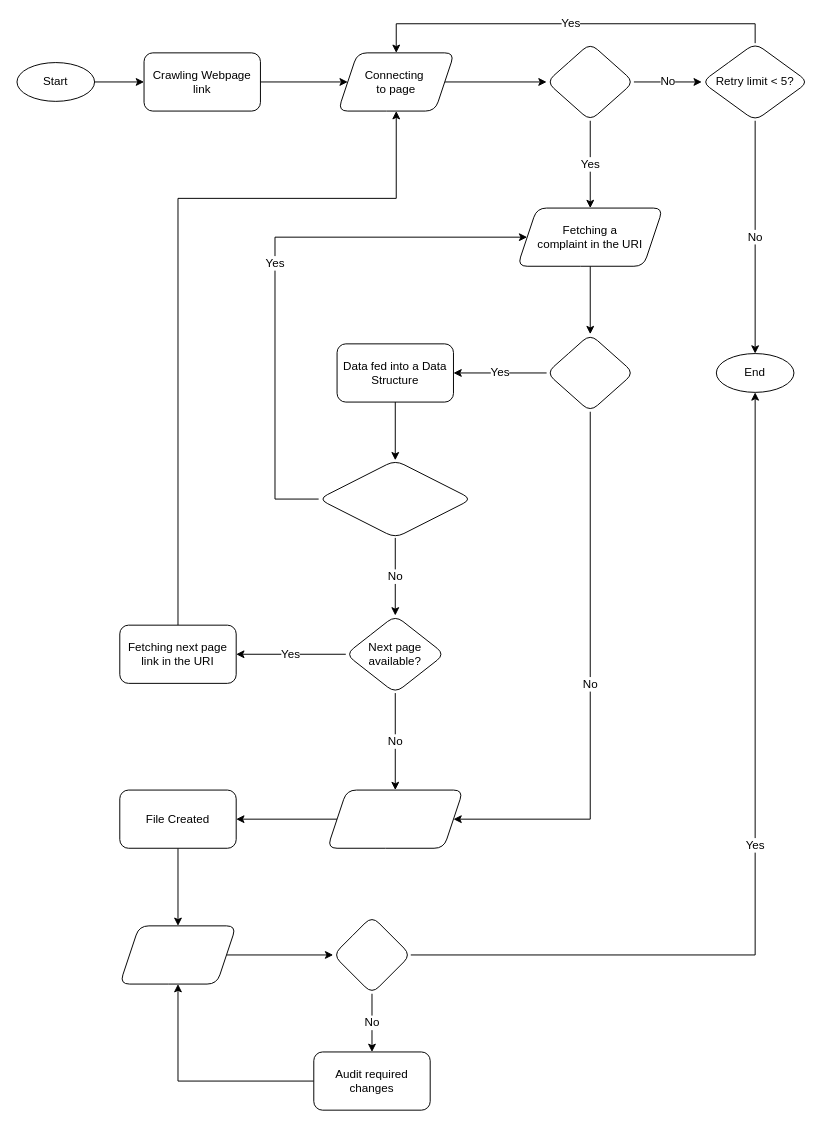
The diagram is 825 pixels wide and 1127 high, and some of its shapes have lost their labels. The shapes that lost their labels are listed below. From the top down, each one's centre as x and y in pixels, then its label:
(590,81): Connected?
(590,372): Content Available?
(395,498): More complaints in the page?
(394,818): Processing the Data Structure into a .json file
(177,954): Calling API to add the file content
(371,954): Success?
